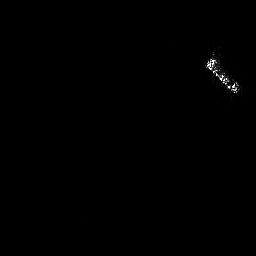ship: (203, 51, 242, 95)
